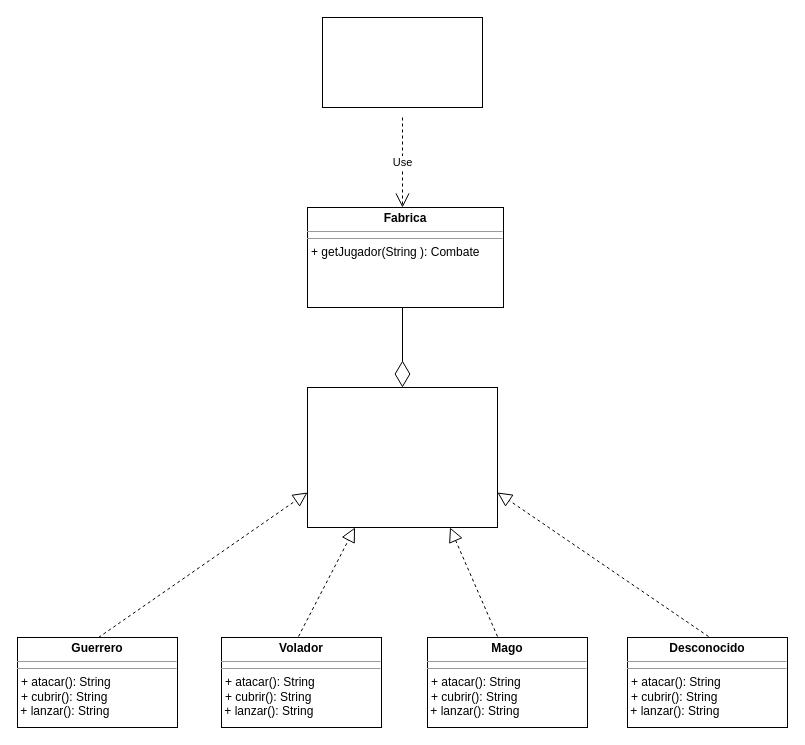
Some shapes in this 805 by 745 pixel diagram are drawn without their labels. The box of each missing label's shape, as (x1, y1, x2, y2) in pixels:
<<Interface>> Combate + atacar( ): String + cubrir( ): String + lanzar(): String: (306, 386, 498, 528)
Class + fabrica: Fabrica: (322, 16, 482, 108)
